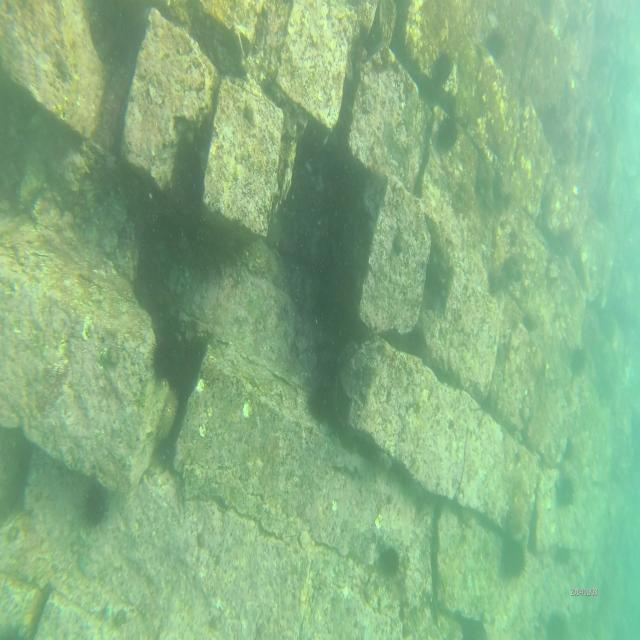echinus: (490, 246, 524, 297), (154, 386, 182, 440), (80, 482, 108, 530), (501, 532, 528, 581), (376, 540, 404, 581), (149, 336, 174, 379), (545, 607, 572, 640), (310, 385, 334, 422), (554, 471, 576, 511), (436, 114, 459, 152), (432, 48, 450, 88), (570, 343, 586, 380), (484, 32, 504, 59), (391, 232, 407, 256)
